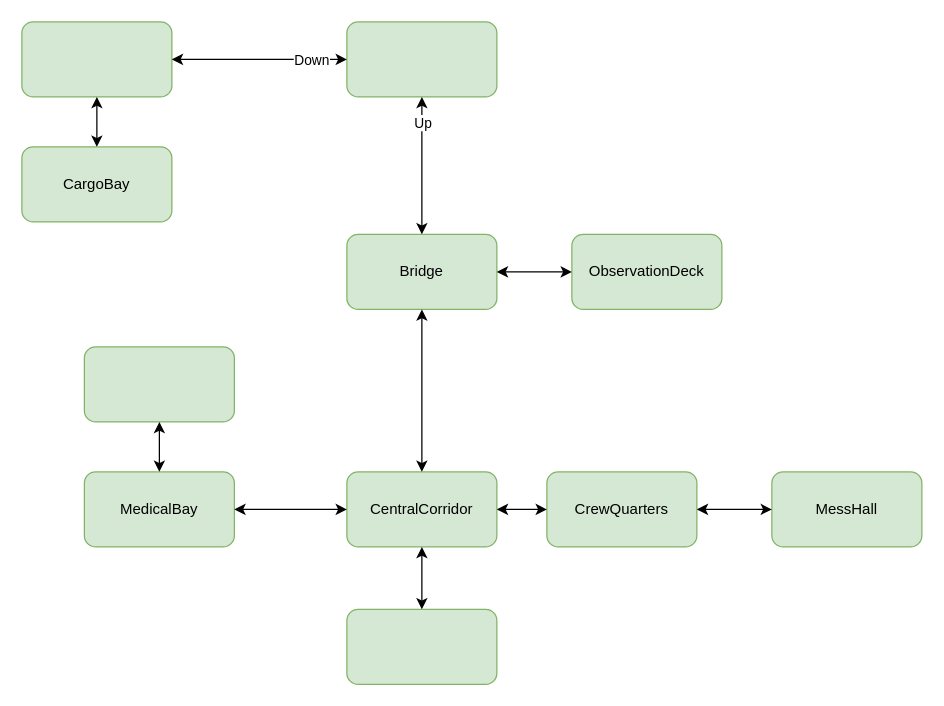
The diagram is 944 pixels wide and 706 high, and some of its shapes have lost their labels. The box of each missing label's shape, as (x1, y1, x2, y2) in pixels:
Airlock: (346, 608, 497, 684)
Engineering: (21, 21, 172, 97)
SpecimenLab: (83, 346, 234, 422)
TurboLift: (346, 21, 497, 97)
